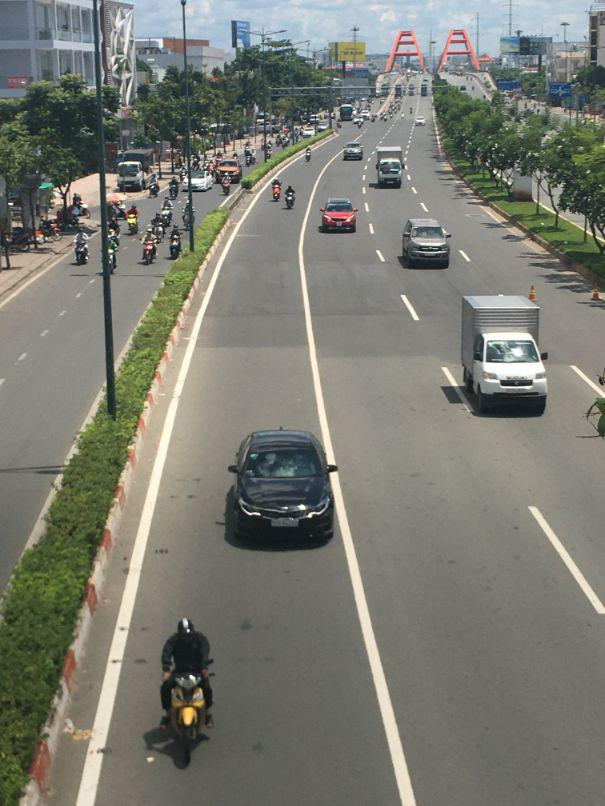bus: (340, 105, 355, 123)
car: (224, 429, 338, 549), (402, 216, 451, 269), (321, 196, 358, 234), (213, 156, 240, 178), (345, 143, 363, 162), (273, 178, 283, 201)
motorbike: (163, 667, 214, 769), (72, 229, 89, 263), (286, 188, 296, 209)
truck: (464, 291, 549, 419), (116, 148, 159, 192), (375, 145, 402, 188)
